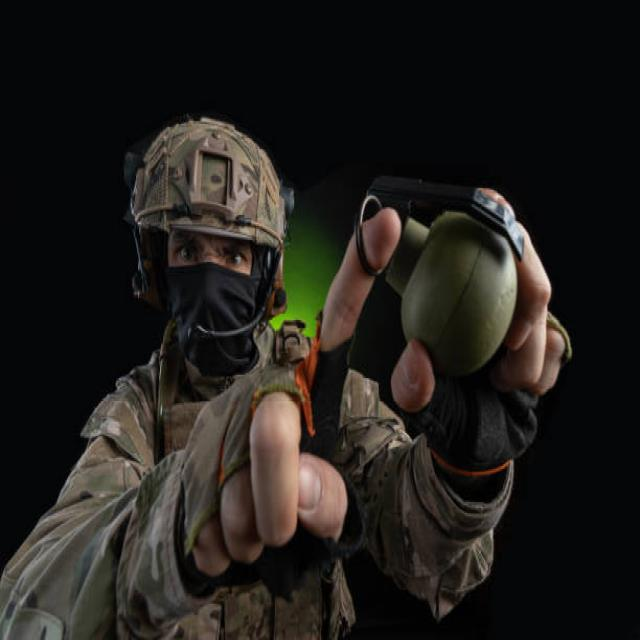grenade: (359, 167, 533, 390)
